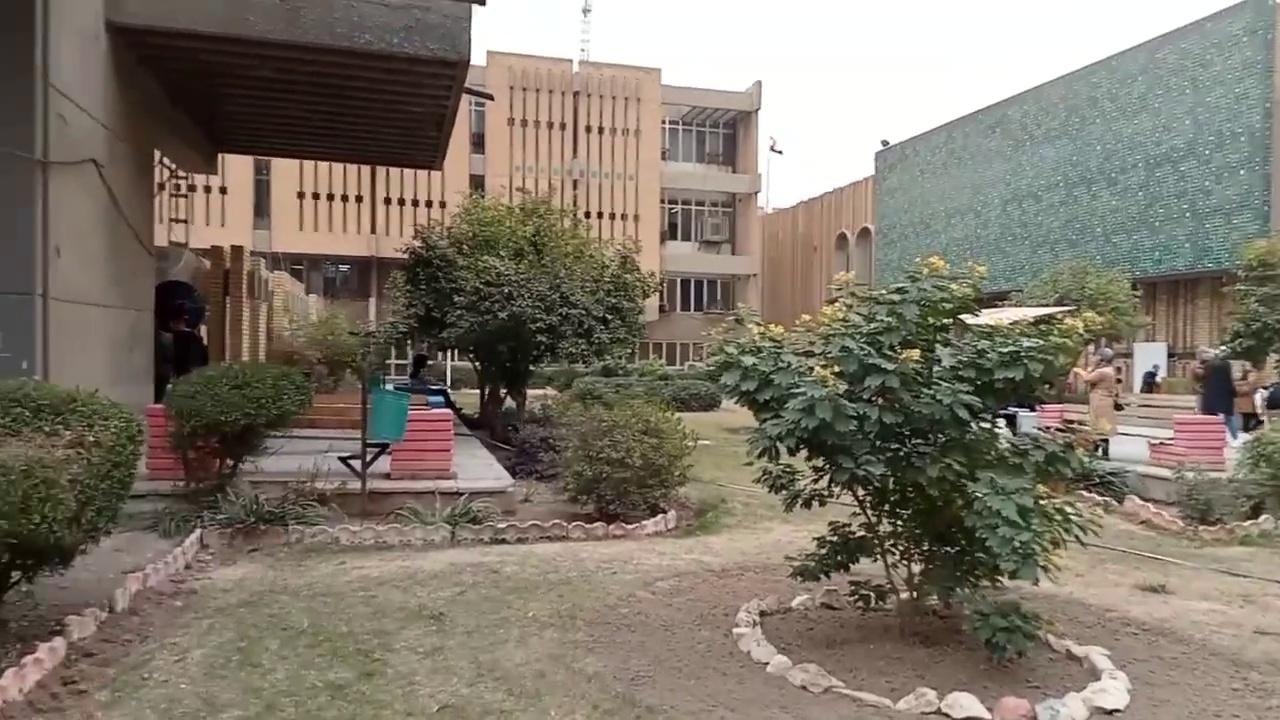person: (154, 278, 209, 403), (1066, 346, 1118, 457), (1192, 346, 1240, 441), (406, 352, 463, 411), (1233, 367, 1262, 432), (1139, 363, 1161, 393), (1113, 376, 1125, 411)
tree: (691, 251, 1143, 664), (380, 184, 663, 442), (0, 374, 144, 598), (281, 306, 404, 494), (548, 389, 699, 523), (161, 357, 315, 486), (1015, 256, 1151, 350), (281, 306, 399, 393), (1215, 231, 1279, 373), (1228, 425, 1279, 521)
